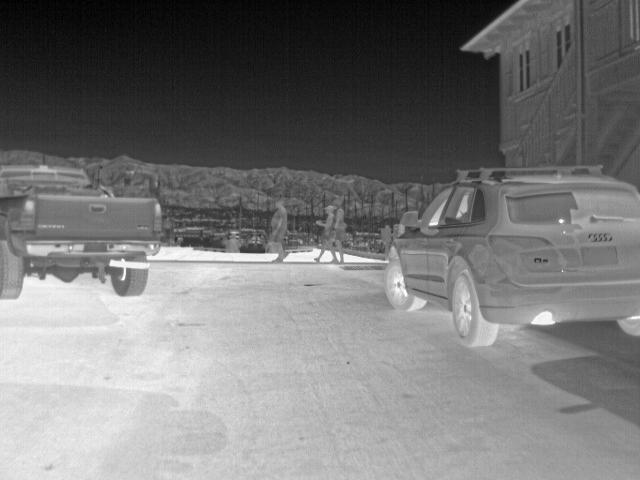car: (383, 160, 639, 352), (0, 160, 160, 301)
person: (265, 198, 291, 262), (312, 206, 336, 262), (333, 204, 348, 266)
